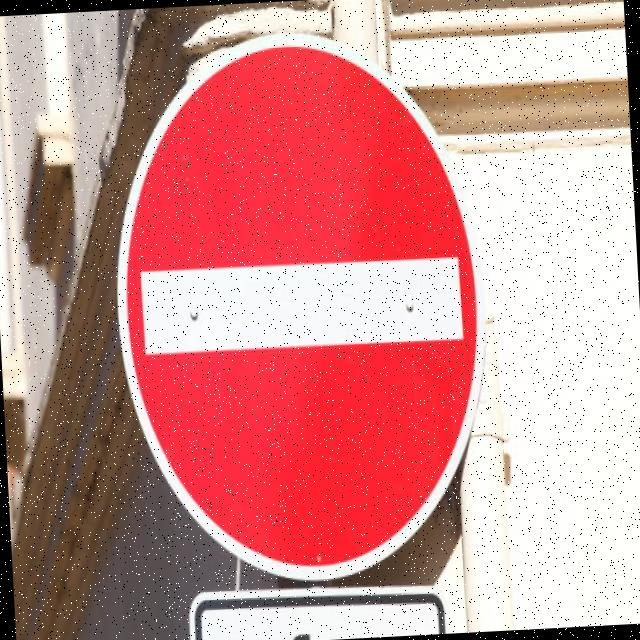do_not_enter: (99, 17, 502, 590)
